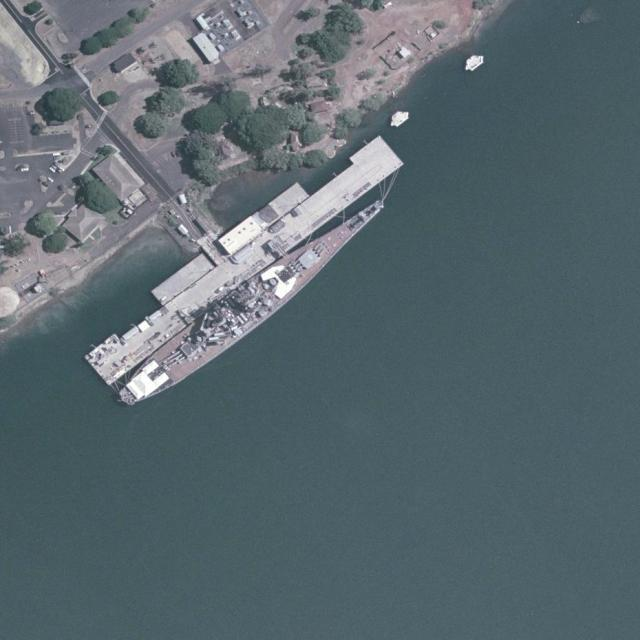Dock: (87, 133, 403, 387)
Other Warship: (111, 188, 397, 415)
